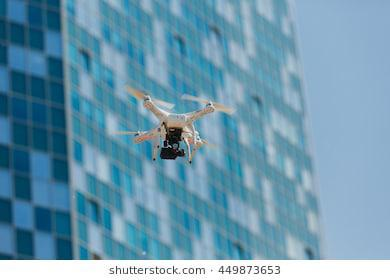drone: (104, 80, 239, 168)
